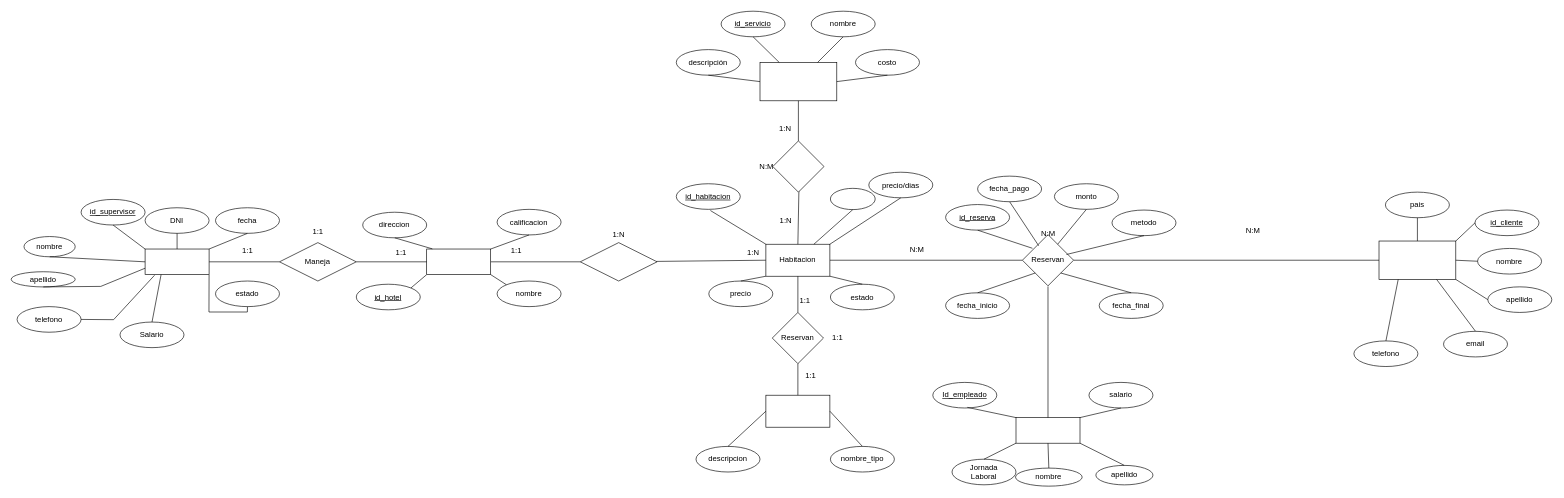
Some shapes in this 1564 by 498 pixel diagram are drawn without their labels. Each missing label, with the centre of its shape:
brinda: the point at 798,166
Cliente: the point at 1417,259
Compuesto: the point at 618,261
Empleado: the point at 1047,430
Hotel: the point at 458,261
número: the point at 852,199
Servicio: the point at 798,81
Supervisor: the point at 176,261
Tipo: the point at 797,411
